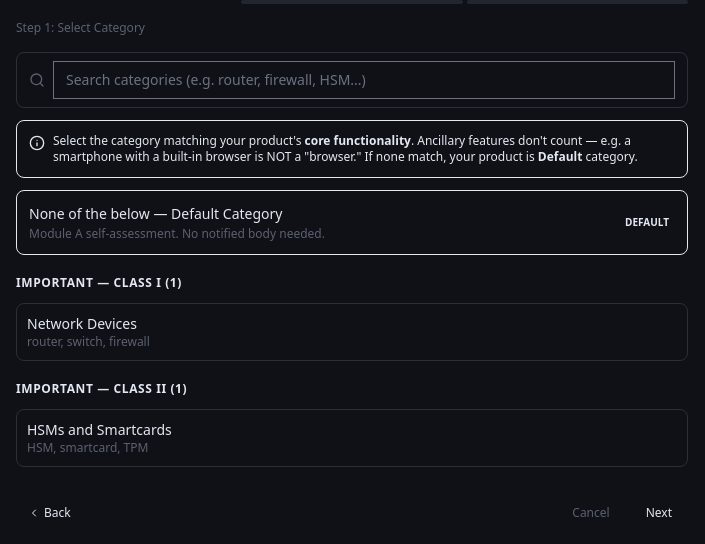
Scenario: CraClassificationWizard › step 3 shows the review summary
Expected: the text "Step 1: Select Category" is shown, top-left (16, 19), bottom-right (145, 36)
Click the button "Next". click: (659, 513)
box: top-left (630, 499), bottom-right (688, 527)
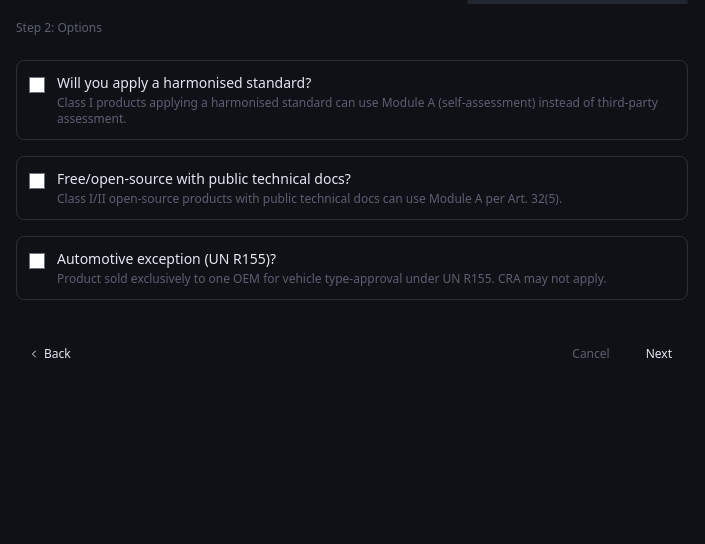
Now the text "Step 2: Options" is shown, box top-left (16, 19), bottom-right (102, 36)
Click the button "Next". click: (659, 354)
box: top-left (630, 340), bottom-right (688, 368)
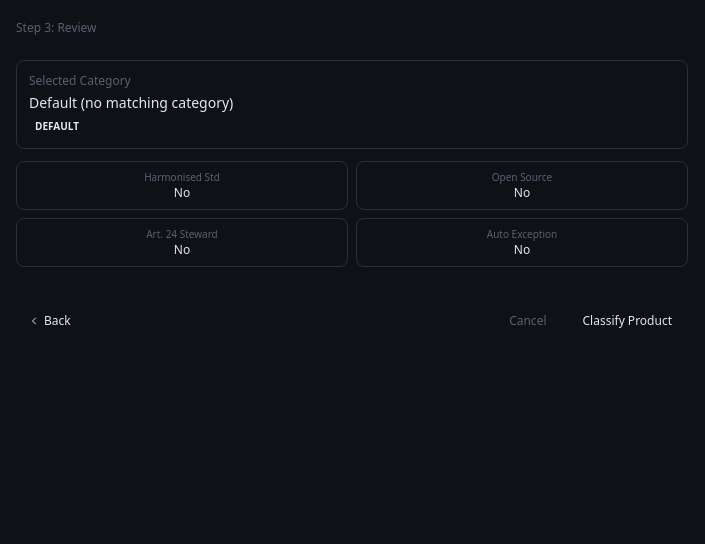
Now the text "Step 3: Review" is shown, box top-left (16, 19), bottom-right (96, 36)
Now the text "Selected Category" is shown, box top-left (29, 72), bottom-right (131, 89)
Now the button "Classify Product" is shown, box top-left (566, 307), bottom-right (688, 335)
